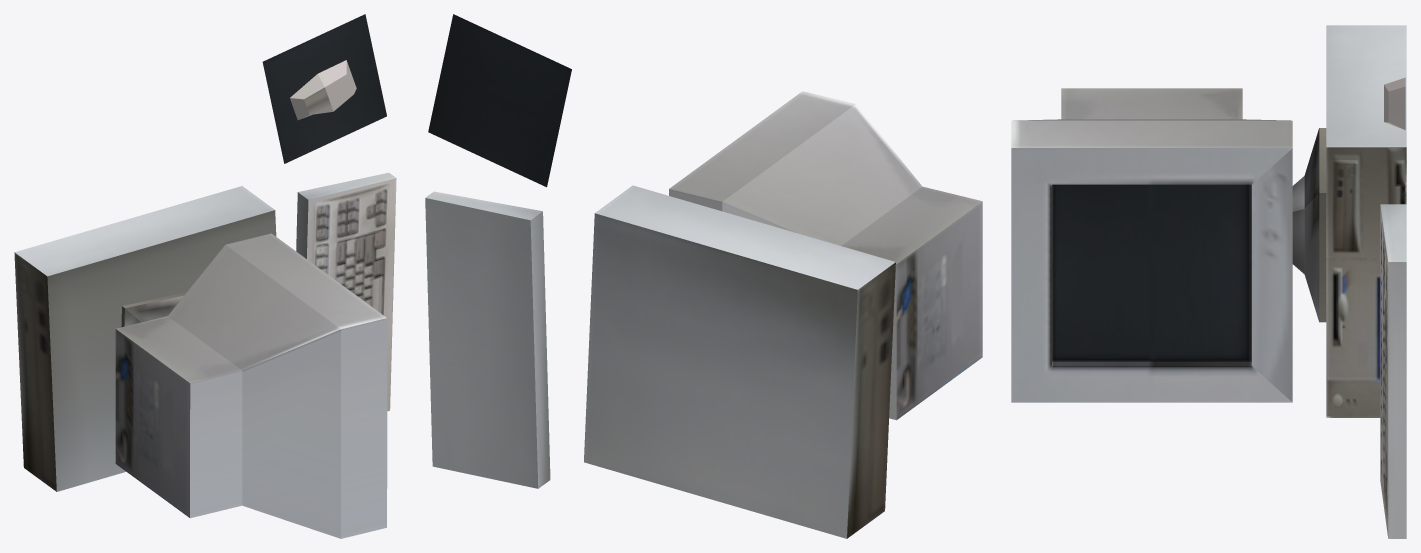
File: computer.glb
3 views of the same model, side by side, from view 1: azimuth 30°, elevation 25°; view 2: azimuth 150°, elevation 25°; view 3: azimuth 270°, elevation 25° (orthographic). The views are drawn at different scales.
Visible parts, largest first — view 1: Cube, Cube.002, Cube.003, Plane, Cube.004, Cube.001; view 2: Cube.002, Cube, Cube.003, Plane; view 3: Cube, Cube.002, Cube.003, Cube.001, Cube.004.
Part boxes in pixels (x1,y1,x2,y2): Cube: [115, 233, 387, 538]; Cube.002: [14, 186, 276, 491]; Cube.003: [296, 172, 396, 411]; Plane: [262, 14, 386, 163]; Cube.004: [290, 60, 356, 119]; Cube.001: [121, 292, 186, 327]; Cube.002: [584, 185, 895, 538]; Cube: [669, 91, 982, 420]; Cube.003: [425, 191, 550, 488]; Plane: [428, 14, 571, 187]; Cube: [1011, 88, 1292, 402]; Cube.002: [1326, 25, 1406, 417]; Cube.003: [1380, 204, 1406, 538]; Cube.001: [1292, 128, 1326, 322]; Cube.004: [1384, 77, 1405, 130].
Bounding box in the file's own units: 1.45 × 1.46 × 1.09.
Materials: 1 (1 with a texture image).
